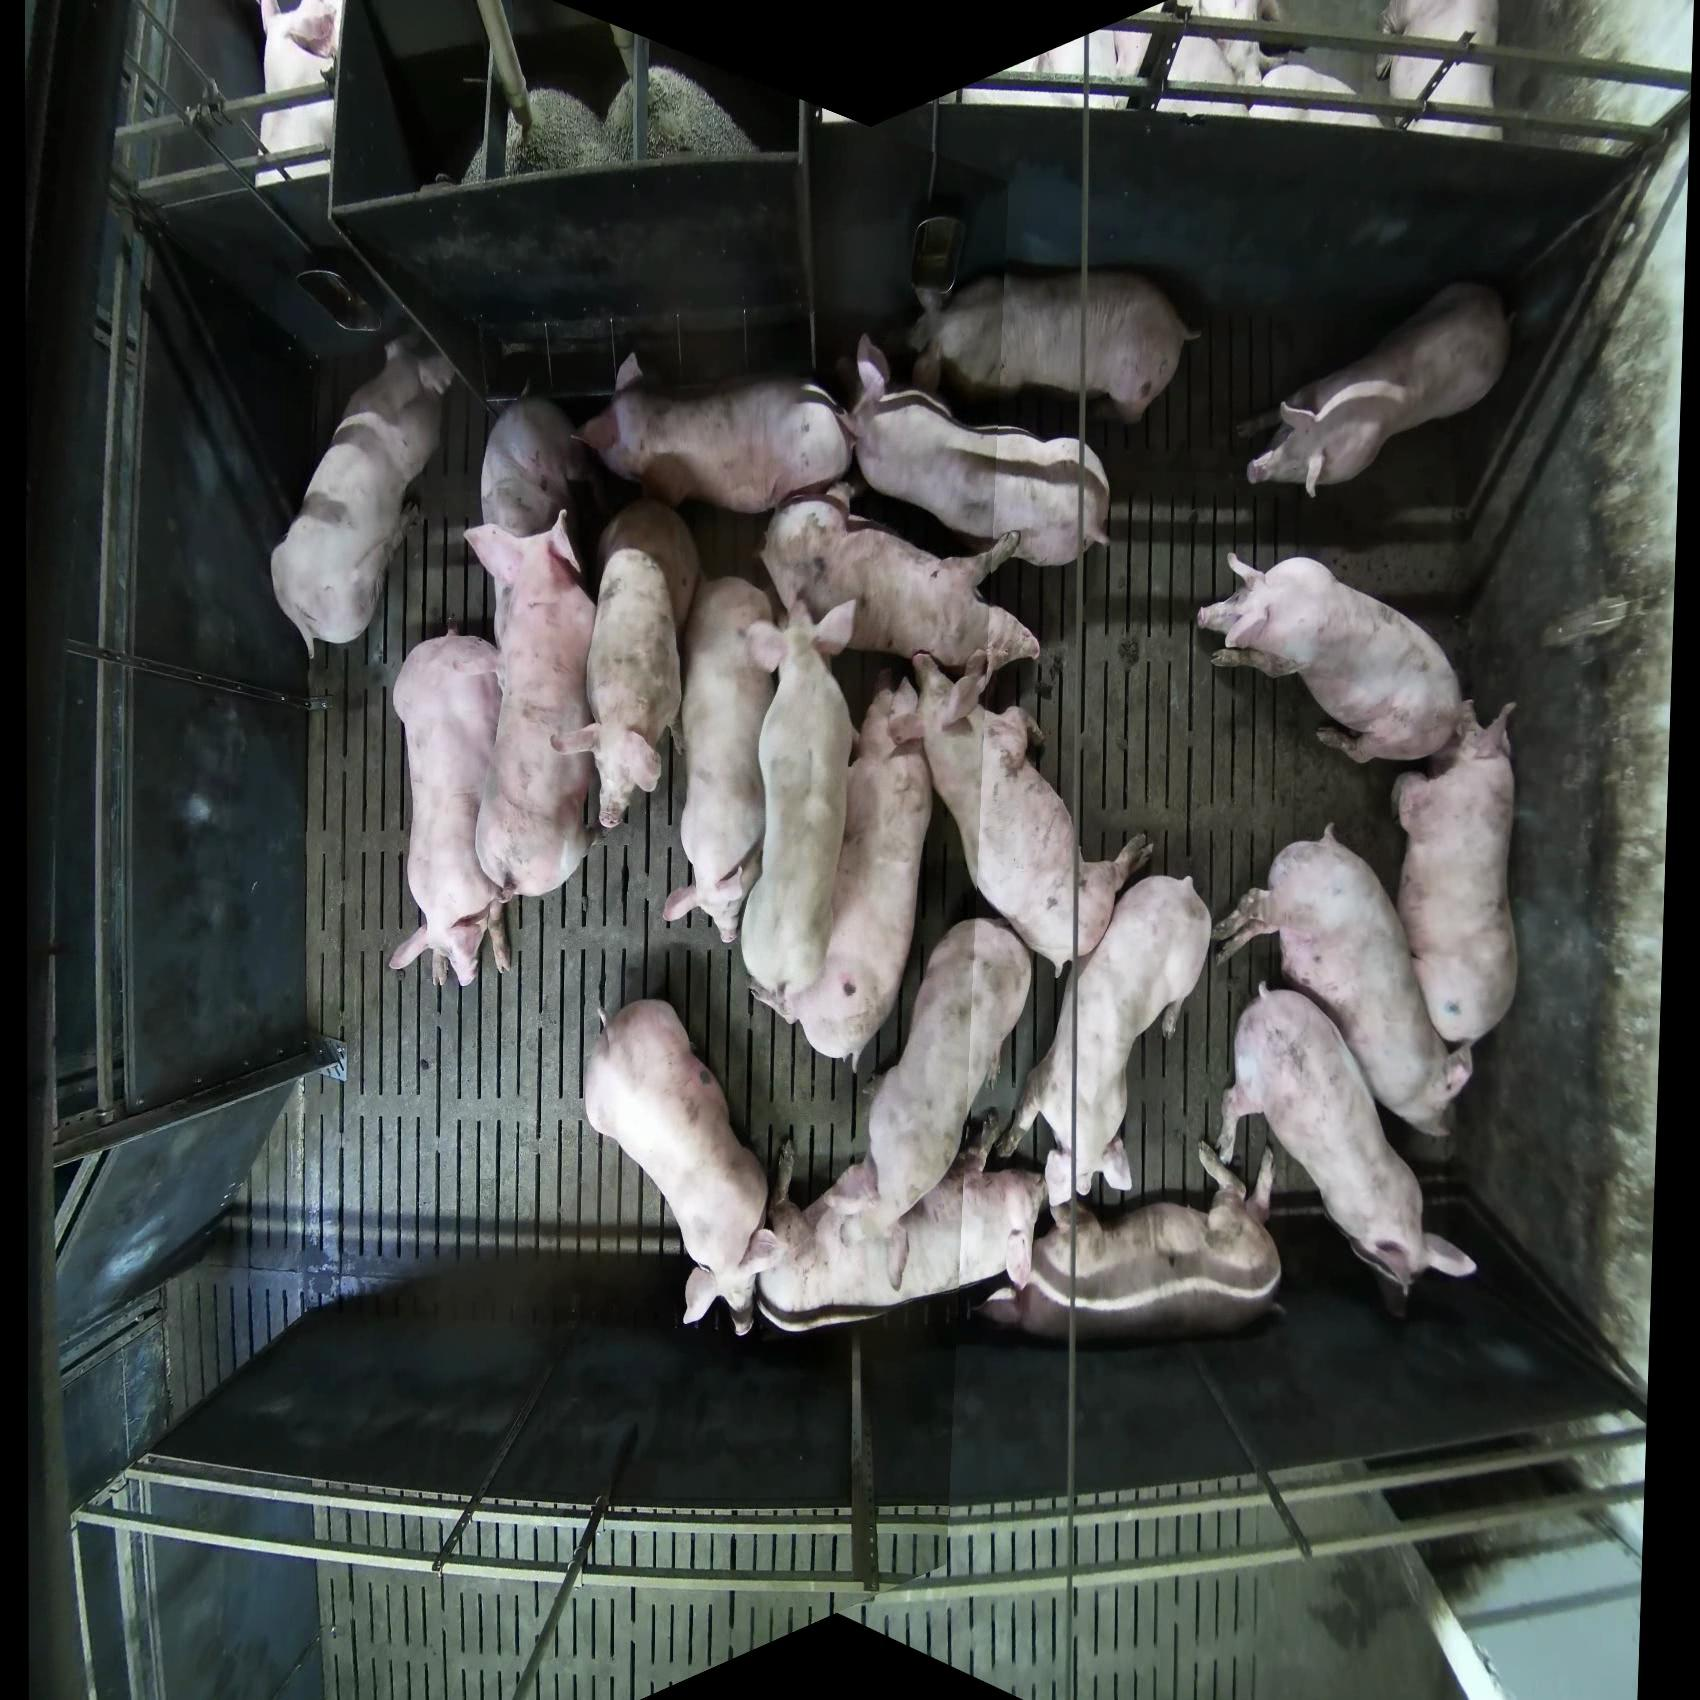pig: (1217, 981, 1479, 1317), (1213, 822, 1474, 1143), (912, 648, 1154, 975), (996, 872, 1213, 1203), (581, 996, 782, 1336), (752, 1113, 1048, 1336), (774, 666, 936, 1073), (844, 335, 1112, 568), (979, 1140, 1284, 1342), (269, 332, 458, 659), (1196, 550, 1470, 766), (1245, 279, 1512, 500), (461, 508, 599, 903), (862, 917, 1034, 1235), (757, 487, 1043, 676), (739, 592, 861, 1012), (551, 500, 702, 831), (904, 268, 1202, 427), (386, 627, 514, 989), (1392, 697, 1519, 1049), (662, 574, 783, 943), (581, 350, 855, 514), (476, 395, 606, 542), (1253, 2, 1393, 128), (1379, 2, 1501, 139), (257, 2, 344, 185), (595, 498, 702, 635)
